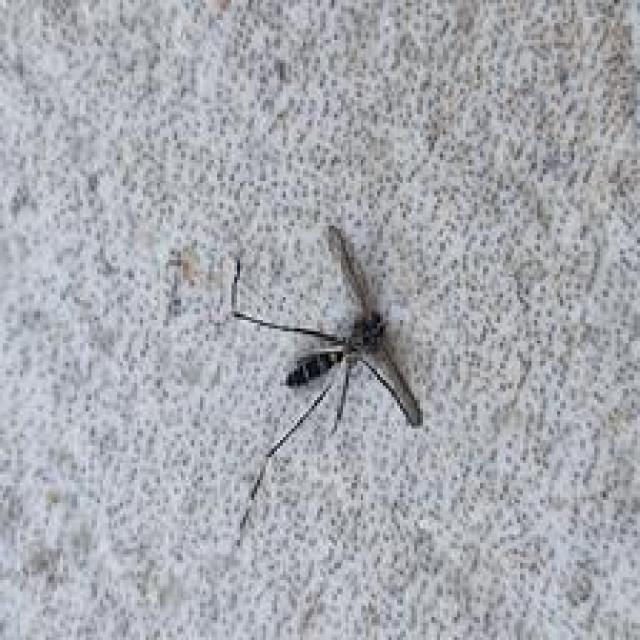Aedes albopictus: (225, 223, 426, 548)
